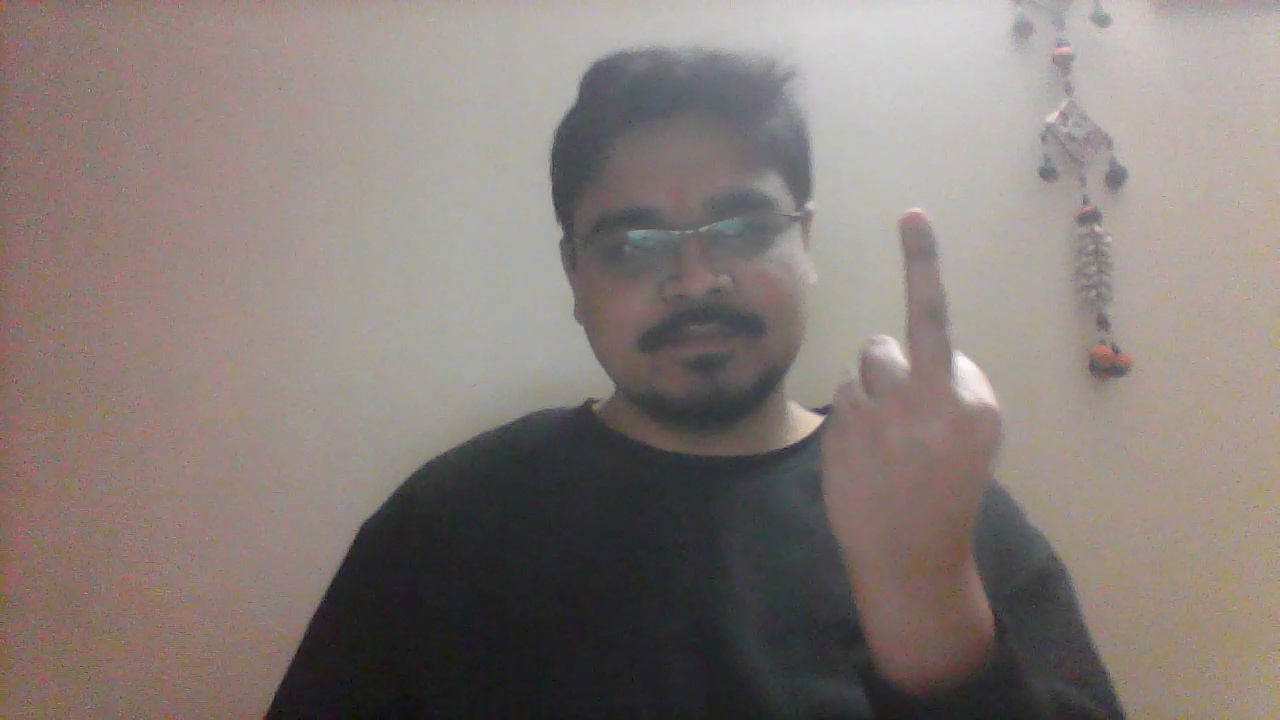Fuck Off: (815, 207, 1003, 636)
